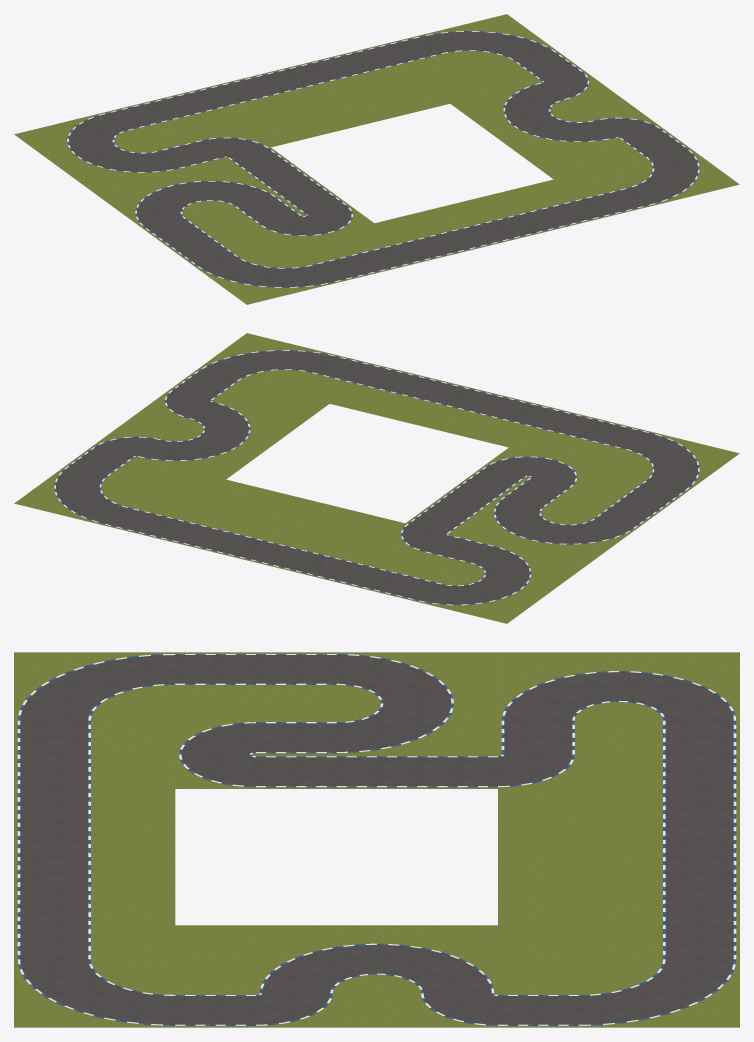
The model's file is track_03.glb.
3 views of the same model, one above another, from view 1: azimuth 30°, elevation 25°; view 2: azimuth 150°, elevation 25°; view 3: azimuth 270°, elevation 25° (orthographic). The views are drawn at different scales.
Visible parts, largest first — view 1: Forest_mod04_turn180.002, Forest_mod04_turn180.003, Forest_mod04_turn180.001, Forest_mod03_turn90_big.001, Forest_mod03_turn90_big.002, Forest_mod03_turn90_big.003, Forest_mod01_straight.045, Forest_mod01_straight.053, Forest_mod00_empty.012, Forest_mod00_empty.013, Forest_mod00_empty.018, Forest_mod00_empty.019 (+47 smaller); view 2: Forest_mod04_turn180.002, Forest_mod04_turn180.003, Forest_mod04_turn180.001, Forest_mod03_turn90_big.003, Forest_mod03_turn90_big.001, Forest_mod03_turn90_big.002, Forest_mod01_straight.039, Forest_mod00_empty.015, Forest_mod00_empty.016, Forest_mod00_empty.021, Forest_mod00_empty.022, Forest_mod00_empty.043 (+47 smaller); view 3: Forest_mod04_turn180.001, Forest_mod04_turn180.003, Forest_mod04_turn180.002, Forest_mod03_turn90_big.001, Forest_mod03_turn90_big.002, Forest_mod03_turn90_big.003, Forest_mod00_empty.025, Forest_mod00_empty.014, Forest_mod00_empty.015, Forest_mod00_empty.019, Forest_mod00_empty.020, Forest_mod00_empty.042 (+47 smaller).
Boxes of the visible parts, box(x1,y1,x2,y2) form: Forest_mod04_turn180.002: box(92, 158, 277, 228); Forest_mod04_turn180.003: box(450, 82, 616, 160); Forest_mod04_turn180.001: box(14, 112, 180, 190); Forest_mod03_turn90_big.001: box(418, 14, 558, 73); Forest_mod03_turn90_big.002: box(195, 245, 335, 304); Forest_mod03_turn90_big.003: box(599, 147, 739, 206); Forest_mod01_straight.045: box(233, 196, 303, 225); Forest_mod01_straight.053: box(238, 69, 308, 98); Forest_mod00_empty.012: box(424, 74, 494, 103); Forest_mod00_empty.013: box(469, 63, 539, 92); Forest_mod00_empty.018: box(464, 190, 534, 220); Forest_mod00_empty.019: box(509, 179, 579, 209); Forest_mod04_turn180.002: box(450, 496, 635, 566); Forest_mod04_turn180.003: box(137, 401, 303, 479); Forest_mod04_turn180.001: box(418, 545, 584, 623); Forest_mod03_turn90_big.003: box(195, 333, 335, 392); Forest_mod03_turn90_big.001: box(14, 466, 154, 525); Forest_mod03_turn90_big.002: box(599, 431, 739, 490); Forest_mod01_straight.039: box(445, 388, 515, 417); Forest_mod00_empty.015: box(509, 428, 579, 458); Forest_mod00_empty.016: box(464, 417, 534, 447); Forest_mod00_empty.021: box(259, 393, 329, 422); Forest_mod00_empty.022: box(214, 382, 284, 411); Forest_mod00_empty.043: box(174, 498, 244, 528); Forest_mod04_turn180.001: box(498, 652, 739, 720); Forest_mod04_turn180.003: box(256, 925, 497, 993); Forest_mod04_turn180.002: box(336, 652, 497, 754); Forest_mod03_turn90_big.001: box(578, 959, 739, 1027); Forest_mod03_turn90_big.002: box(14, 652, 175, 720); Forest_mod03_turn90_big.003: box(14, 959, 175, 1027); Forest_mod00_empty.025: box(336, 993, 417, 1027); Forest_mod00_empty.014: box(94, 720, 175, 754); Forest_mod00_empty.015: box(94, 754, 175, 788); Forest_mod00_empty.019: box(94, 891, 175, 925); Forest_mod00_empty.020: box(94, 925, 175, 959); Forest_mod00_empty.042: box(578, 925, 659, 959).
Size of the model in its own units: 176 by 0.03 by 144.
Materials: 3 (3 with a texture image).
